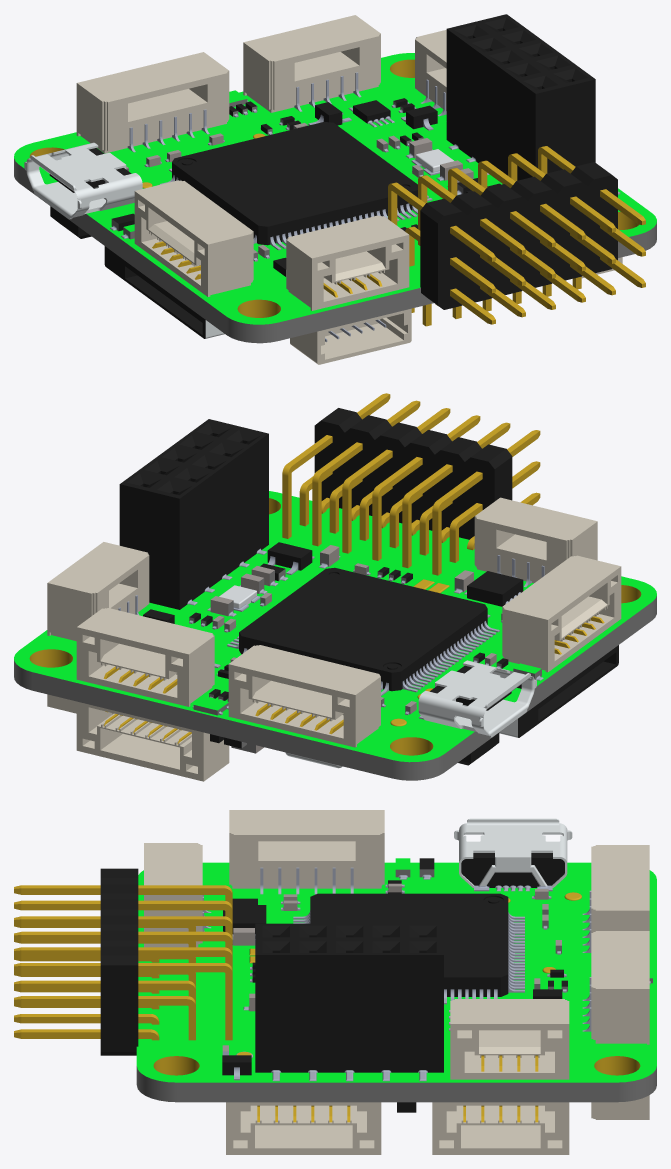
The model's file is Autopilot V1_,without_case.fbx.
The picture shows the model from 3 angles, top to bottom: view 1: azimuth 30°, elevation 25°; view 2: azimuth 150°, elevation 25°; view 3: azimuth 270°, elevation 25°; orthographic projection. The views are drawn at different scales.
Parts seen in each view (by area): view 1: pixracerv1.0AutopilotDetailed; view 2: pixracerv1.0AutopilotDetailed; view 3: pixracerv1.0AutopilotDetailed.
Boxes of the visible parts, box(x1,y1,x2,y2) form: pixracerv1.0AutopilotDetailed: box(14, 14, 656, 364); pixracerv1.0AutopilotDetailed: box(14, 393, 656, 781); pixracerv1.0AutopilotDetailed: box(14, 810, 656, 1154).
Bounding box in the file's own units: 4102 × 1620 × 4887.
